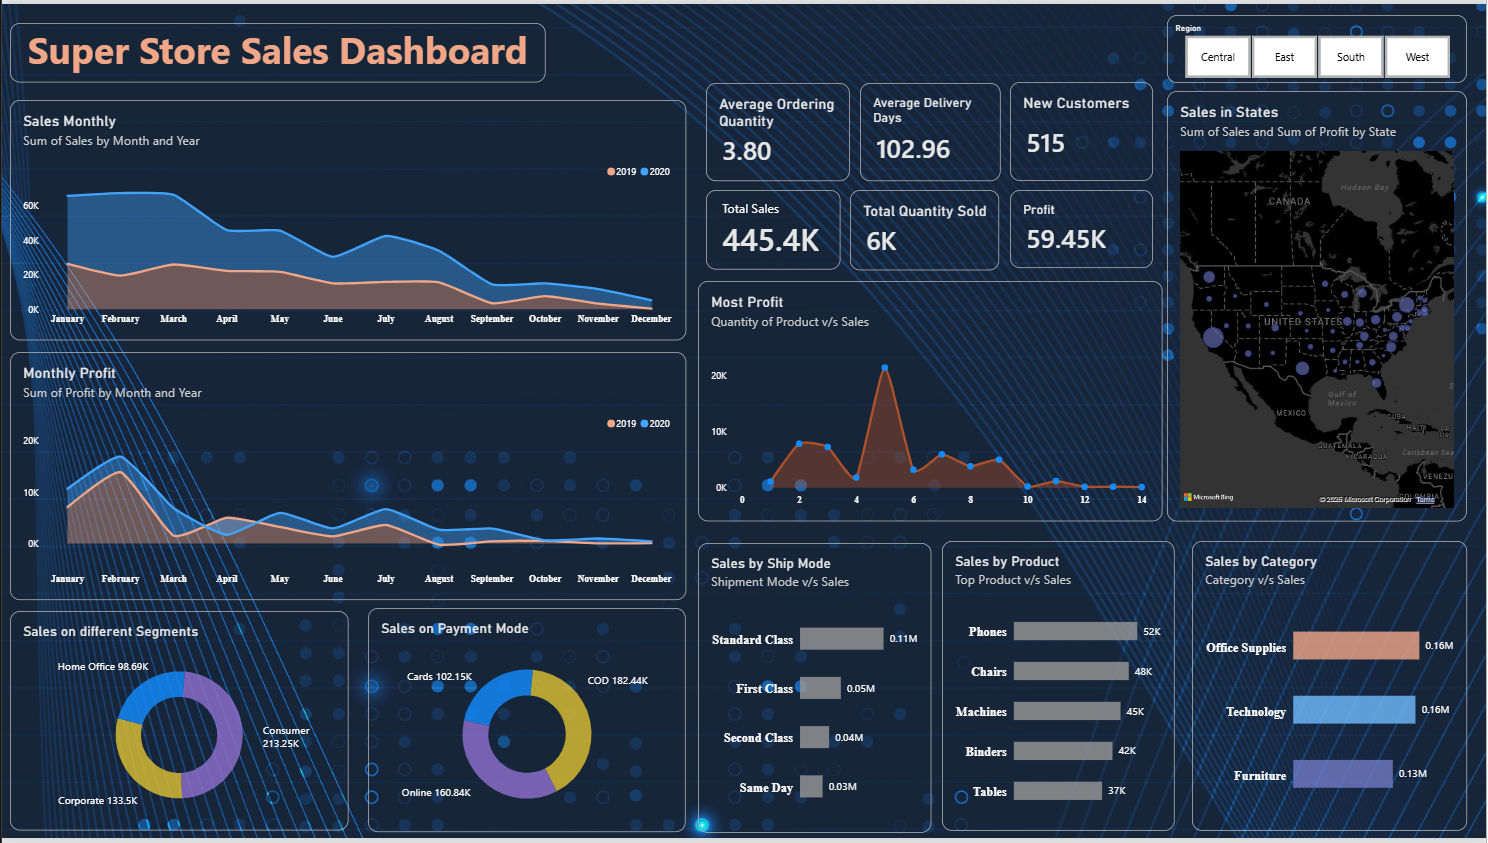

The page's visual inventory and layout, read from the dashboard file:
{"tool":"powerbi","page":{"name":"Analytics","canvas":[1920,1080],"ordinal":0},"visuals":[{"type":"clusteredBarChart","title":"Sales by Category","fields":{"Category":["SuperStore_Sales_Dataset (2).Category"],"Y":["Sum(SuperStore_Sales_Dataset (2).Sales)"]},"box":[1539.2,694.5,356,375],"z":0},{"type":"clusteredBarChart","title":"Sales by Product","fields":{"Category":["SuperStore_Sales_Dataset (2).Sub-Category"],"Y":["Sum(SuperStore_Sales_Dataset (2).Sales)"]},"box":[1216.8,694.5,300.5,375],"z":1000},{"type":"clusteredBarChart","title":"Sales by Ship Mode","fields":{"Category":["SuperStore_Sales_Dataset (2).Ship Mode"],"Y":["Sum(SuperStore_Sales_Dataset (2).Sales)"]},"box":[900.2,697.4,302,375],"z":2000},{"type":"stackedAreaChart","title":"Sales Monthly","fields":{"Category":["SuperStore_Sales_Dataset (2).Order Date.Variation.Date Hierarchy.Month","SuperStore_Sales_Dataset (2).Order Date.Variation.Date Hierarchy.Day"],"Series":["SuperStore_Sales_Dataset (2).Order Date.Variation.Date Hierarchy.Year"],"Y":["Sum(SuperStore_Sales_Dataset (2).Sales)"]},"box":[10.2,124,875.4,310.8],"z":3000},{"type":"stackedAreaChart","title":"Monthly Profit","fields":{"Category":["SuperStore_Sales_Dataset (2).Order Date.Variation.Date Hierarchy.Month","SuperStore_Sales_Dataset (2).Order Date.Variation.Date Hierarchy.Day"],"Series":["SuperStore_Sales_Dataset (2).Order Date.Variation.Date Hierarchy.Year"],"Y":["Sum(SuperStore_Sales_Dataset (2).Profit)"]},"box":[10.2,450.8,875.4,321],"z":4000},{"type":"map","title":"Sales in States","fields":{"Category":["SuperStore_Sales_Dataset (2).State"],"Size":["Sum(SuperStore_Sales_Dataset (2).Sales)"]},"box":[1507.1,112.3,388.1,557.3],"z":5000},{"type":"donutChart","title":"Sales on different Segments","fields":{"Category":["SuperStore_Sales_Dataset (2).Segment"],"Y":["Sum(SuperStore_Sales_Dataset (2).Sales)"]},"box":[10.2,784.9,437.7,284.5],"z":6000},{"type":"donutChart","title":"Sales on Payment Mode","fields":{"Category":["SuperStore_Sales_Dataset (2).Payment Mode"],"Y":["Sum(SuperStore_Sales_Dataset (2).Sales)"]},"box":[474.2,782,411.4,290.3],"z":7000},{"type":"slicer","fields":{"Values":["SuperStore_Sales_Dataset (2).Region"]},"box":[1507.1,14.6,388.1,87.5],"z":8000},{"type":"textbox","box":[10,24.3,692.9,77.1],"z":9000},{"type":"cardVisual","fields":{"Data":["Sum(SuperStore_Sales_Dataset (2).Sales)"]},"box":[910.4,240.7,174.4,103.3],"z":10000},{"type":"cardVisual","title":"Total Quantity Sold","fields":{"Data":["Sum(SuperStore_Sales_Dataset (2).Quantity)"]},"box":[1097.1,243.6,192.6,100.7],"z":11000},{"type":"cardVisual","title":"Profit","fields":{"Data":["Sum(SuperStore_Sales_Dataset (2).Profit)"]},"box":[1304.3,240.7,185.3,100.7],"z":12000},{"type":"cardVisual","title":"Average Delivery Days","fields":{"Data":["Avg(SuperStore_Sales_Dataset (2).AvgDelivery)"]},"box":[1107.4,102.1,182.4,124],"z":13000},{"type":"cardVisual","title":"New Customers","fields":{"Data":["Count(SuperStore_Sales_Dataset (2).Customer ID)"]},"box":[1304.3,110.9,185.3,115.3],"z":14000},{"type":"stackedAreaChart","title":"Most Profit","fields":{"Category":["SuperStore_Sales_Dataset (2).Quantity"],"Y":["Sum(SuperStore_Sales_Dataset (2).Profit)"]},"box":[900.2,358.9,601.1,310.8],"z":15000},{"type":"cardVisual","title":"Average Ordering Quantity","fields":{"Data":["Avg(SuperStore_Sales_Dataset (2).Quantity)"]},"box":[910.4,102.1,186.7,126.9],"z":16000}]}

Visuals, with their boxes in screenshot pixels (x1, y1, x2, y2), scaled from the page's 1920x1080 canvas onto the 1488x843 screenshot:
"Sales by Category" clusteredBarChart: (x1=1193, y1=542, x2=1469, y2=835)
"Sales by Product" clusteredBarChart: (x1=943, y1=542, x2=1176, y2=835)
"Sales by Ship Mode" clusteredBarChart: (x1=698, y1=544, x2=932, y2=837)
"Sales Monthly" stackedAreaChart: (x1=8, y1=97, x2=686, y2=339)
"Monthly Profit" stackedAreaChart: (x1=8, y1=352, x2=686, y2=602)
"Sales in States" map: (x1=1168, y1=88, x2=1469, y2=523)
"Sales on different Segments" donutChart: (x1=8, y1=613, x2=347, y2=835)
"Sales on Payment Mode" donutChart: (x1=368, y1=610, x2=686, y2=837)
slicer - SuperStore_Sales_Dataset (2).Region: (x1=1168, y1=11, x2=1469, y2=80)
textbox: (x1=8, y1=19, x2=545, y2=79)
cardVisual - Sum(SuperStore_Sales_Dataset (2).Sales): (x1=706, y1=188, x2=841, y2=269)
"Total Quantity Sold" cardVisual: (x1=850, y1=190, x2=1000, y2=269)
"Profit" cardVisual: (x1=1011, y1=188, x2=1154, y2=266)
"Average Delivery Days" cardVisual: (x1=858, y1=80, x2=1000, y2=176)
"New Customers" cardVisual: (x1=1011, y1=87, x2=1154, y2=177)
"Most Profit" stackedAreaChart: (x1=698, y1=280, x2=1164, y2=523)
"Average Ordering Quantity" cardVisual: (x1=706, y1=80, x2=850, y2=179)
